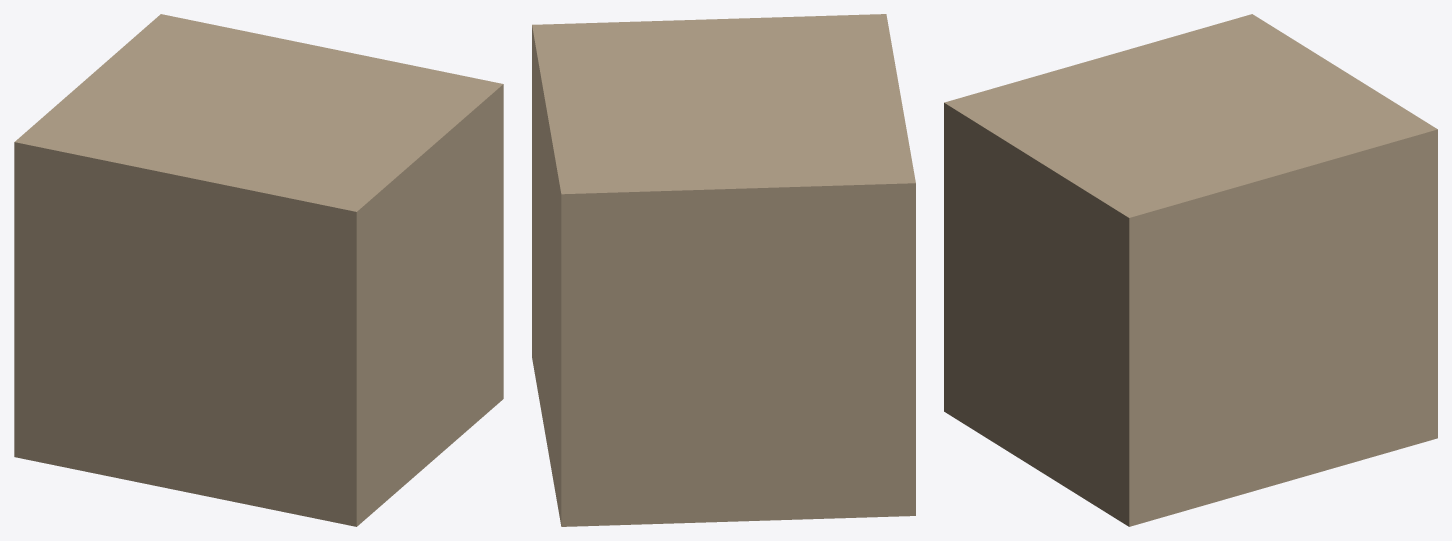
File: bld_163484357.dae
3 views of the same model, side by side, from view 1: azimuth 30°, elevation 25°; view 2: azimuth 150°, elevation 25°; view 3: azimuth 270°, elevation 25° (orthographic). The views are drawn at different scales.
Parts seen in each view (by area): view 1: bld_163484357; view 2: bld_163484357; view 3: bld_163484357.
Boxes of the visible parts, x1=… form: bld_163484357: x1=14, y1=14, x2=503, y2=526; bld_163484357: x1=532, y1=14, x2=915, y2=526; bld_163484357: x1=944, y1=14, x2=1437, y2=526.
Size of the model in its own units: 11.33 by 11.59 by 8.
